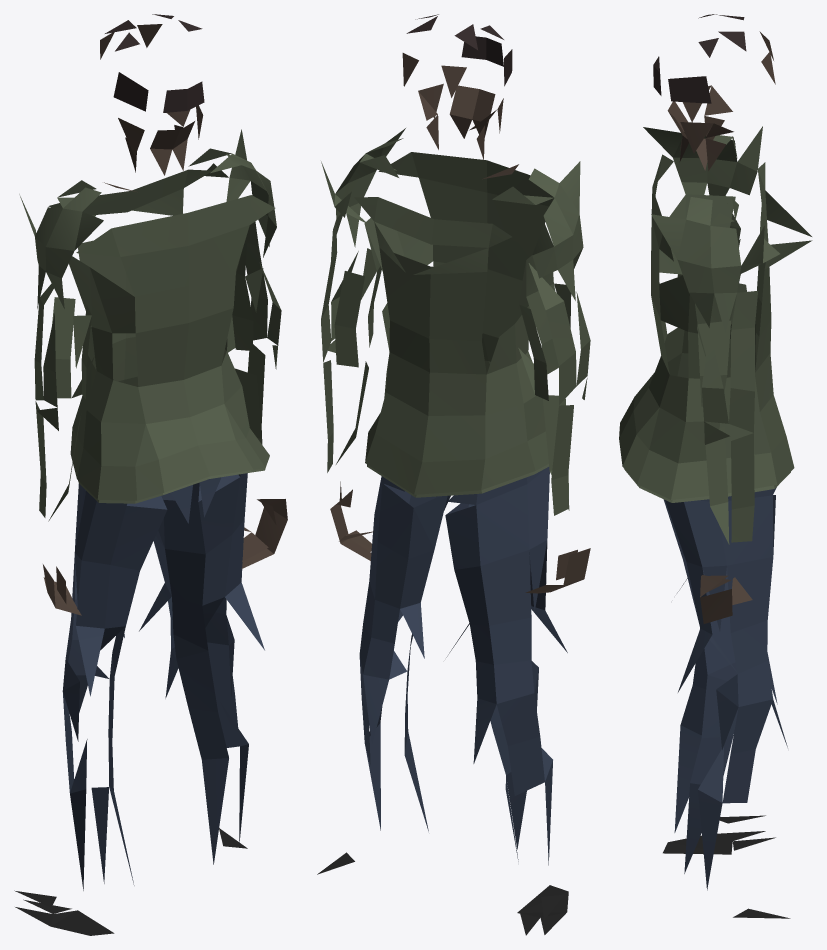
File: personfar_1_idle.fbx
The picture shows the model from 3 angles, left to right: view 1: azimuth 30°, elevation 25°; view 2: azimuth 150°, elevation 25°; view 3: azimuth 270°, elevation 25°; orthographic projection.
Visible parts, largest first — view 1: BaseHuman; view 2: BaseHuman; view 3: BaseHuman.
Part boxes in pixels (x1,y1,x2,y2): BaseHuman: (14, 14, 287, 935); BaseHuman: (317, 14, 590, 935); BaseHuman: (619, 14, 812, 918).
Size of the model in its own units: 0.2881 by 0.973 by 0.1978.
